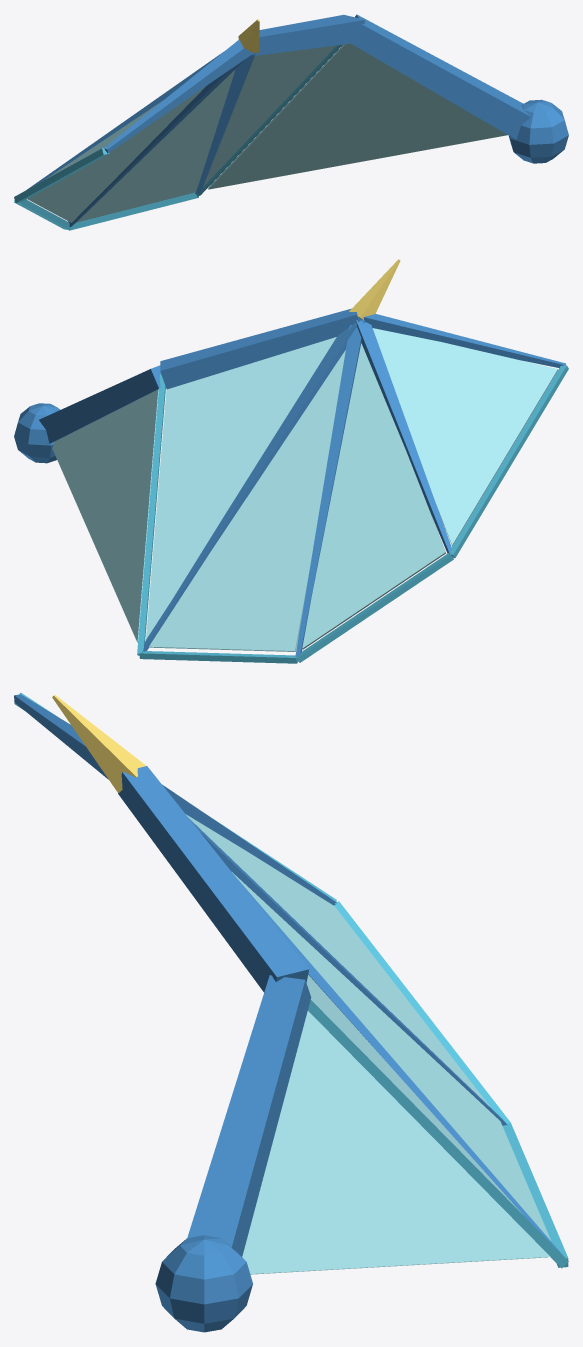
Rendered from DragonWingL.fbx.
The picture shows the model from 3 angles, top to bottom: view 1: azimuth 30°, elevation 25°; view 2: azimuth 150°, elevation 25°; view 3: azimuth 270°, elevation 25°; orthographic projection. The views are drawn at different scales.
Visible parts, largest first — view 1: DragonWingL_Membrane, DragonWingL_Bones, DragonWingL_Edge, DragonWingL_Claw; view 2: DragonWingL_Membrane, DragonWingL_Bones, DragonWingL_Edge, DragonWingL_Claw; view 3: DragonWingL_Membrane, DragonWingL_Bones, DragonWingL_Edge, DragonWingL_Claw.
Part boxes in pixels (left/top/right/bottom): DragonWingL_Membrane: left=27, top=43, right=507, bottom=222; DragonWingL_Bones: left=27, top=14, right=568, bottom=226; DragonWingL_Edge: left=14, top=44, right=342, bottom=230; DragonWingL_Claw: left=238, top=19, right=259, bottom=52; DragonWingL_Membrane: left=52, top=328, right=557, bottom=651; DragonWingL_Bones: left=14, top=308, right=565, bottom=656; DragonWingL_Edge: left=137, top=364, right=568, bottom=663; DragonWingL_Claw: left=349, top=259, right=400, bottom=319; DragonWingL_Membrane: left=186, top=814, right=551, bottom=1274; DragonWingL_Bones: left=14, top=694, right=563, bottom=1332; DragonWingL_Edge: left=14, top=693, right=568, bottom=1268; DragonWingL_Claw: left=52, top=695, right=145, bottom=793.
Size of the model in its own units: 638 by 379 by 386.
